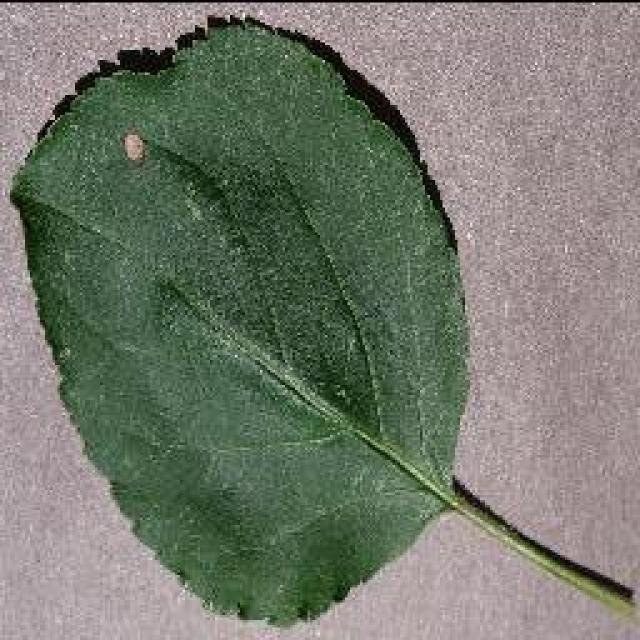Apple___Black_rot: (3, 16, 476, 631)
